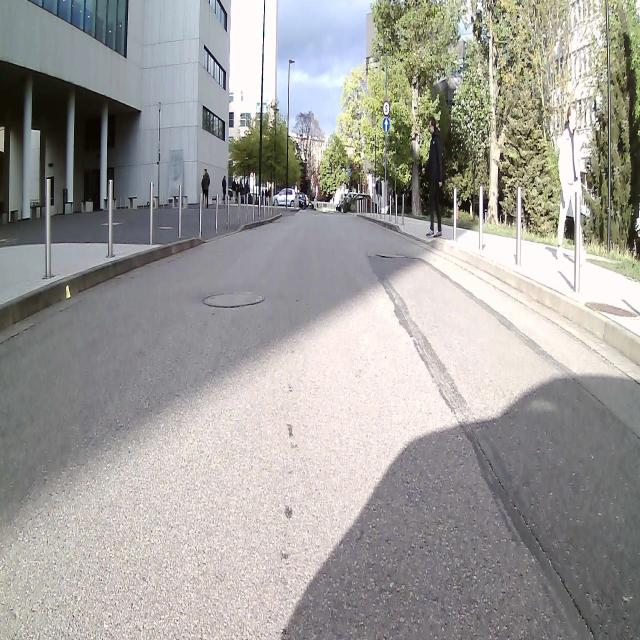bollards: (572, 188, 583, 297), (44, 173, 51, 280), (107, 176, 115, 259), (515, 182, 522, 266), (477, 181, 485, 253), (451, 183, 458, 242), (149, 178, 155, 246)
person: (556, 102, 590, 268), (424, 110, 447, 242), (202, 162, 212, 211), (220, 172, 229, 208)
